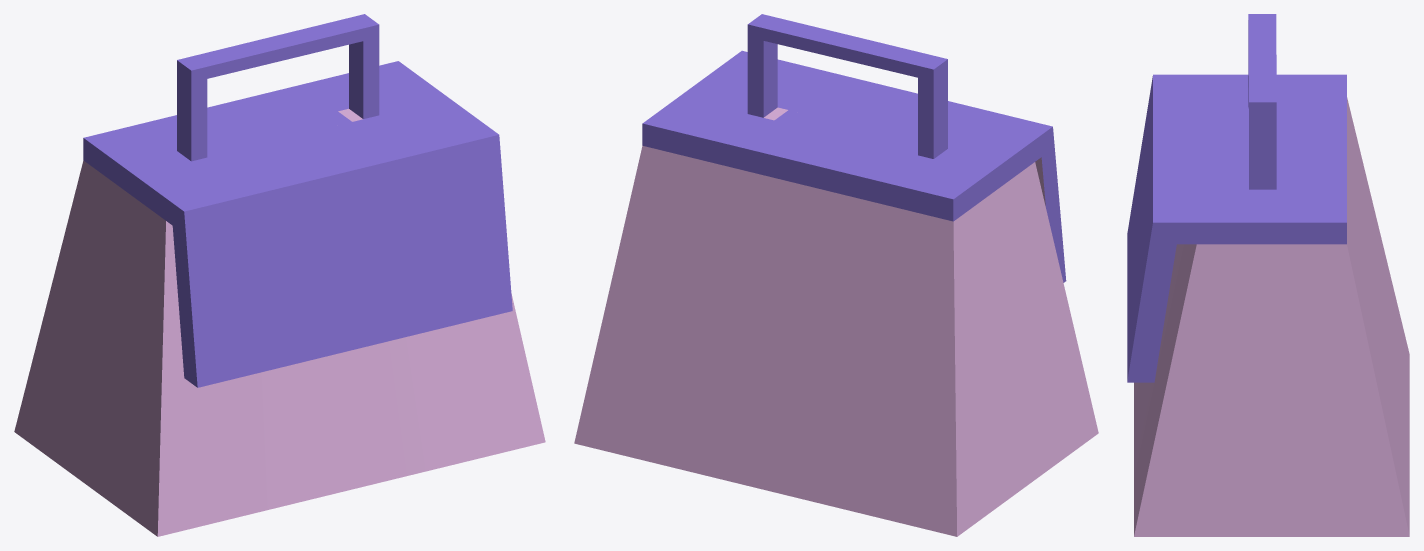
The model's file is bag.fbx.
3 views of the same model, side by side, from view 1: azimuth 30°, elevation 25°; view 2: azimuth 150°, elevation 25°; view 3: azimuth 270°, elevation 25° (orthographic). The views are drawn at different scales.
Parts seen in each view (by area): view 1: Cube; view 2: Cube; view 3: Cube.
Boxes of the visible parts, left/top/right/bottom form: Cube: left=14, top=14, right=545, bottom=536; Cube: left=574, top=14, right=1098, bottom=536; Cube: left=1127, top=14, right=1409, bottom=536.
Bounding box in the file's own units: 209 × 206 × 137.
